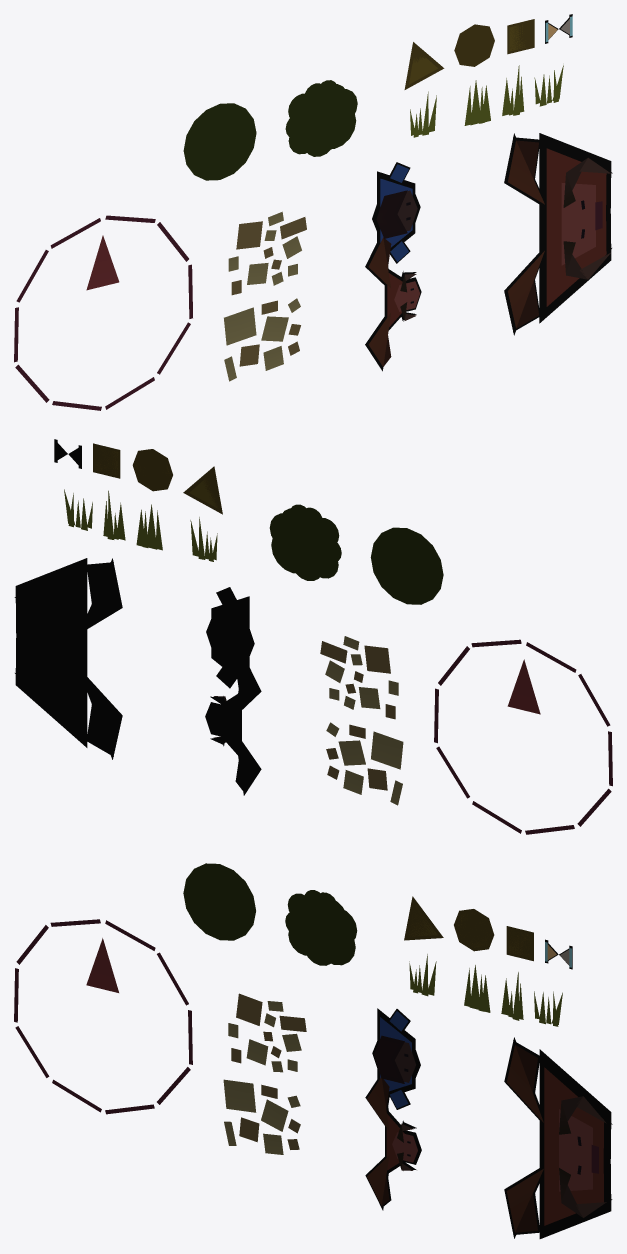
The picture shows the model from 3 angles, top to bottom: view 1: azimuth 30°, elevation 25°; view 2: azimuth 150°, elevation 25°; view 3: azimuth 330°, elevation 25°; orthographic projection.
Visible parts, largest first — view 1: LumberingDevil, Shadow, Shadow.001, Player, Person, RoadTile, RoadTile2, PentagramCircle, Trunk2, Trunk3, PentagramTriange, Trunk (+4 smaller); view 2: LumberingDevil, Shadow, Shadow.001, Person, Player, RoadTile, RoadTile2, PentagramCircle, Trunk2, Trunk3, PentagramTriange, Trunk (+4 smaller); view 3: LumberingDevil, Shadow, Shadow.001, Person, Player, RoadTile, RoadTile2, PentagramCircle, Trunk2, Trunk3, PentagramTriange, Trunk (+4 smaller).
Boxes of the visible parts, <box> form: LumberingDevil: <box>504,133,612,335</box>; Shadow: <box>183,103,256,180</box>; Shadow.001: <box>285,80,357,156</box>; Player: <box>365,236,421,371</box>; Person: <box>372,162,420,263</box>; RoadTile: <box>224,298,300,381</box>; RoadTile2: <box>228,211,306,295</box>; PentagramCircle: <box>14,215,192,410</box>; Trunk2: <box>454,24,494,66</box>; Trunk3: <box>404,42,444,89</box>; PentagramTriange: <box>86,235,119,290</box>; Trunk: <box>507,19,534,54</box>; LumberingDevil: <box>14,558,122,759</box>; Shadow: <box>370,527,443,604</box>; Shadow.001: <box>269,504,341,580</box>; Person: <box>206,587,254,688</box>; Player: <box>205,658,261,795</box>; RoadTile: <box>326,722,403,805</box>; RoadTile2: <box>320,636,398,719</box>; PentagramCircle: <box>434,639,612,834</box>; Trunk2: <box>132,449,172,491</box>; Trunk3: <box>183,466,222,514</box>; PentagramTriange: <box>507,659,540,714</box>; Trunk: <box>93,443,120,478</box>; LumberingDevil: <box>504,1037,612,1238</box>; Shadow: <box>183,863,255,940</box>; Shadow.001: <box>285,890,357,965</box>; Person: <box>372,1008,420,1109</box>; Player: <box>365,1076,421,1210</box>; RoadTile: <box>223,1079,300,1154</box>; RoadTile2: <box>228,993,306,1072</box>; PentagramCircle: <box>14,919,192,1114</box>; Trunk2: <box>454,909,494,951</box>; Trunk3: <box>404,896,443,940</box>; PentagramTriange: <box>86,938,118,992</box>; Trunk: <box>506,926,533,961</box>.
Size of the model in its own units: 8.39 by 4.35 by 0.0569.
